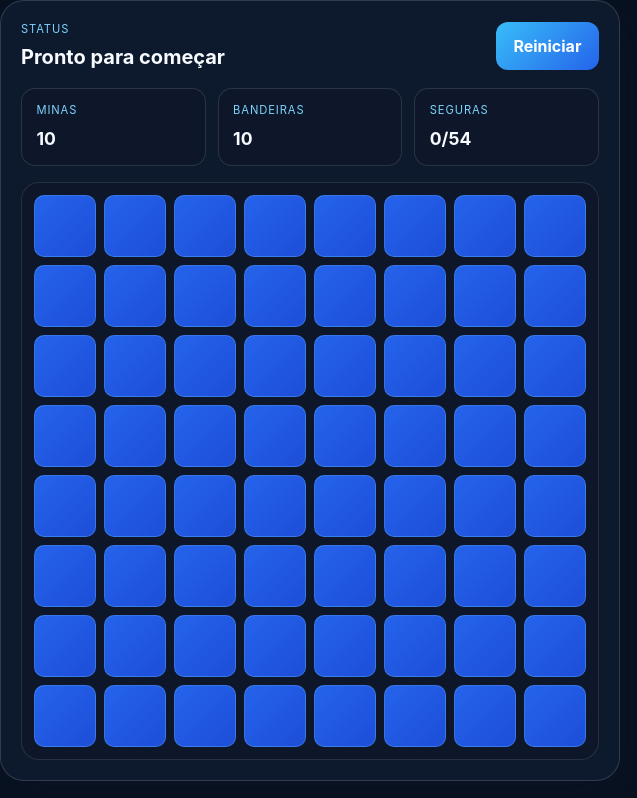
Test case: Minefield › revela uma célula com número e inicia o jogo
Click the button named "Campo 3-1" at (65, 366), box [34,335,96,397]
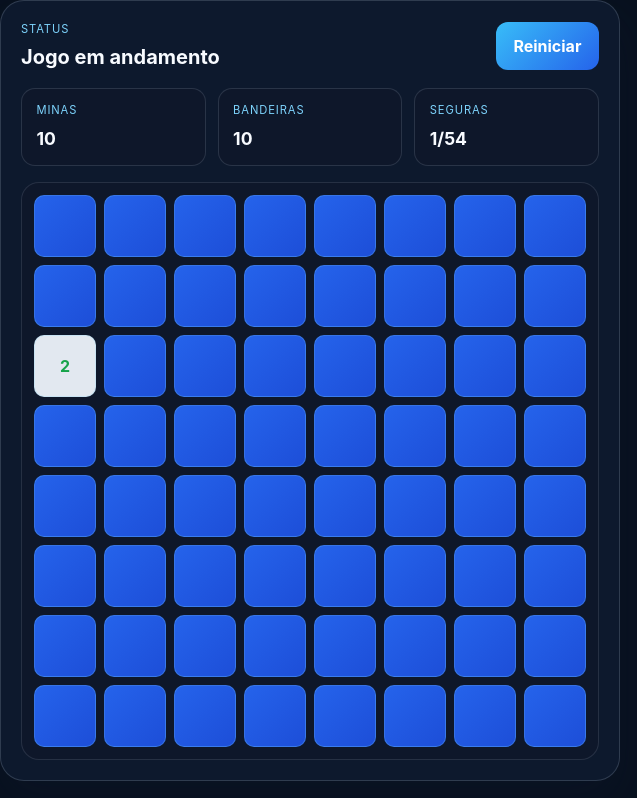
Expected: the button "2" is shown, [34,335,96,397]
Expected: the text "Jogo em andamento" is shown, [21,42,220,72]
